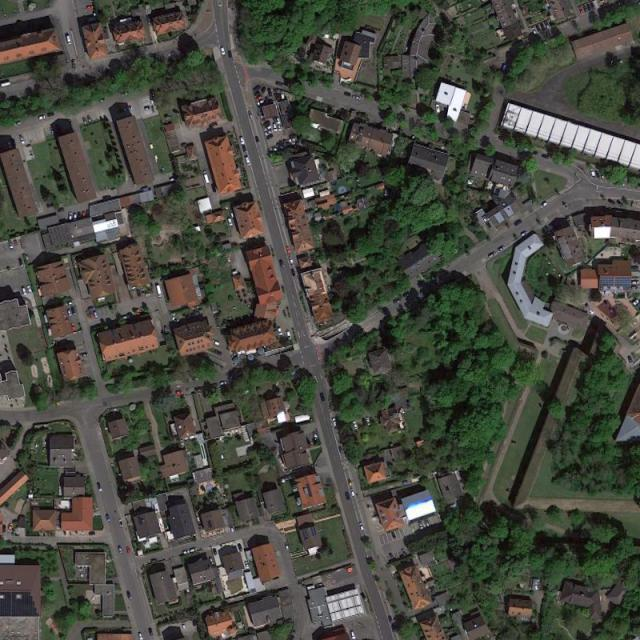vehicle: (202, 170, 210, 185), (156, 285, 163, 298), (615, 199, 624, 208), (211, 339, 221, 347), (539, 202, 549, 210), (582, 4, 590, 14), (607, 198, 617, 206), (253, 85, 262, 93), (489, 251, 498, 259), (70, 306, 77, 316), (244, 156, 251, 166), (86, 115, 93, 125), (267, 88, 274, 98), (264, 130, 274, 137), (286, 331, 293, 341), (126, 590, 133, 600), (586, 3, 593, 13), (578, 6, 585, 16), (389, 552, 396, 562), (424, 518, 431, 528), (358, 522, 365, 532), (66, 35, 72, 46), (97, 482, 103, 493), (26, 286, 34, 294), (514, 219, 522, 227), (254, 135, 261, 144), (239, 136, 246, 145), (255, 95, 264, 102), (257, 99, 266, 106), (539, 22, 546, 31), (590, 2, 597, 11), (393, 298, 402, 305), (352, 95, 362, 101), (211, 183, 217, 193), (320, 392, 326, 402), (237, 543, 243, 553), (332, 418, 338, 428), (66, 309, 73, 317), (214, 349, 222, 356), (266, 134, 274, 141), (254, 91, 262, 98), (265, 125, 273, 132), (290, 269, 297, 277), (14, 120, 22, 127), (521, 231, 529, 238), (594, 171, 601, 179), (401, 550, 408, 558), (418, 522, 425, 530), (391, 532, 398, 540), (8, 523, 14, 532), (18, 258, 24, 267), (22, 287, 28, 296), (93, 310, 99, 319), (124, 106, 133, 112), (220, 47, 226, 56), (82, 117, 88, 126), (248, 110, 254, 119), (242, 145, 248, 154), (171, 317, 180, 323), (136, 289, 142, 298), (228, 218, 234, 227), (277, 144, 286, 150), (288, 257, 294, 266), (19, 136, 25, 145), (350, 630, 356, 639), (435, 105, 441, 114), (544, 21, 550, 30), (590, 169, 596, 178), (79, 353, 89, 358), (9, 240, 14, 250), (68, 212, 73, 222), (219, 381, 229, 386), (350, 488, 355, 498), (343, 92, 351, 98), (279, 260, 285, 268), (38, 115, 46, 121), (190, 548, 198, 554), (535, 25, 541, 33), (531, 27, 537, 35), (628, 356, 634, 364), (633, 298, 639, 306), (65, 301, 74, 306), (230, 209, 235, 218), (275, 82, 284, 87), (286, 246, 291, 255), (50, 127, 55, 136), (118, 546, 123, 555), (106, 514, 111, 523), (119, 519, 124, 528), (126, 546, 131, 555), (149, 627, 154, 636), (541, 154, 550, 159), (345, 492, 350, 501), (353, 421, 358, 430), (366, 417, 371, 426), (499, 246, 506, 252), (14, 239, 19, 247), (87, 306, 95, 311), (89, 311, 94, 319), (86, 5, 94, 10), (228, 50, 233, 58), (122, 315, 130, 320), (98, 98, 106, 103), (82, 211, 86, 221), (78, 212, 82, 222), (73, 214, 78, 222), (273, 124, 278, 132), (278, 328, 283, 336), (270, 147, 278, 152), (176, 390, 184, 395), (8, 142, 13, 150), (182, 550, 190, 555), (285, 542, 290, 550), (209, 558, 214, 566), (388, 615, 393, 623), (338, 446, 343, 454), (72, 60, 76, 69), (86, 210, 90, 219), (403, 294, 412, 298), (144, 106, 151, 111), (47, 112, 54, 117), (348, 479, 353, 486), (2, 525, 6, 533), (230, 525, 234, 533), (214, 548, 218, 556), (182, 622, 186, 630), (278, 125, 282, 132), (246, 562, 250, 569), (632, 286, 639, 290), (632, 281, 639, 285)
